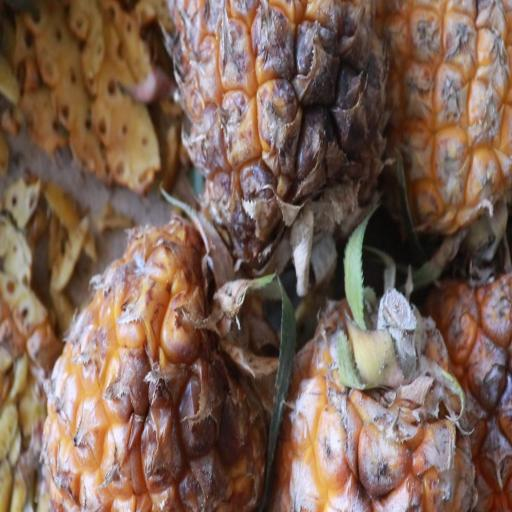Pineapple - v8 v1: (43, 200, 286, 512), (175, 3, 399, 272), (267, 281, 489, 511), (371, 2, 512, 250)
